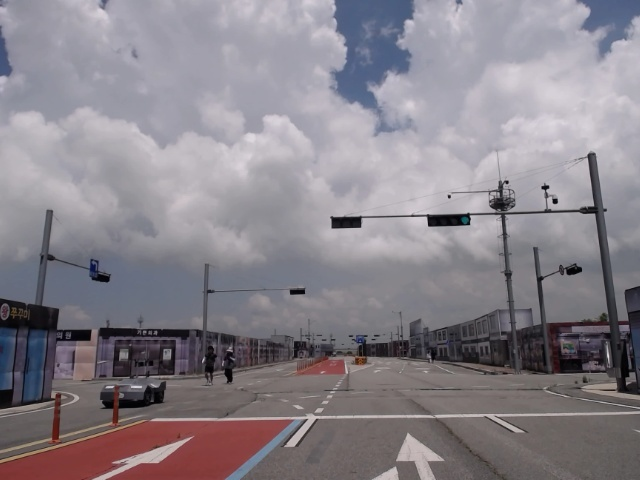straight_green_4: (428, 217, 470, 227)
